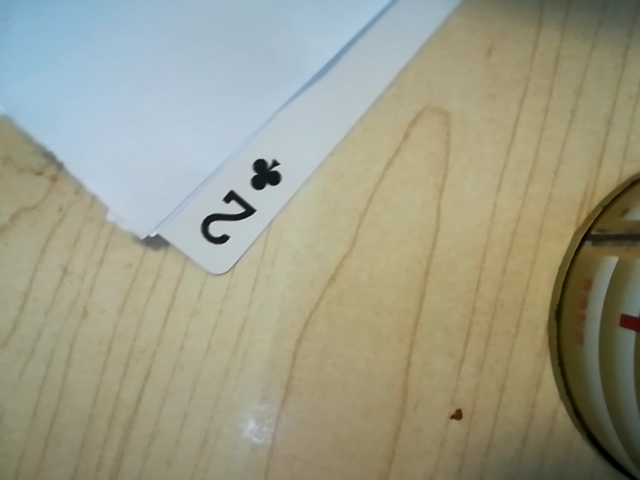mh 2: (181, 153, 291, 259)
